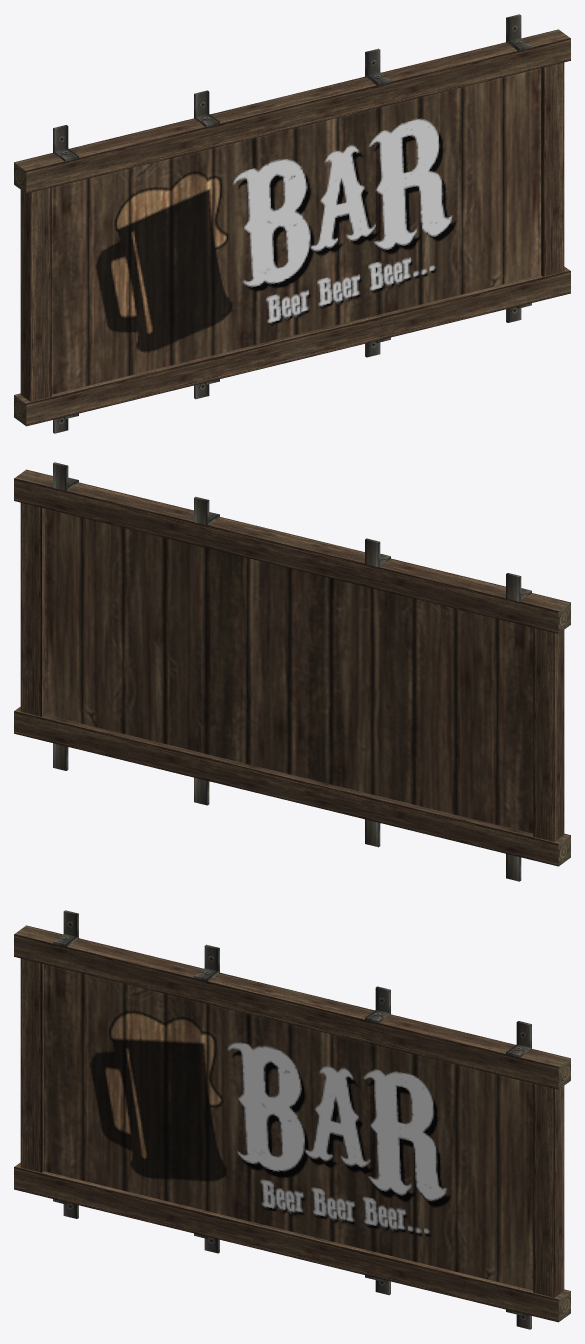
The model's file is signs-03.fbx.
3 views of the same model, one above another, from view 1: azimuth 30°, elevation 25°; view 2: azimuth 150°, elevation 25°; view 3: azimuth 330°, elevation 25° (orthographic).
Parts seen in each view (by area): view 1: Cube.142; view 2: Cube.142; view 3: Cube.142.
Part boxes in pixels (x1,y1,x2,y2): Cube.142: (14,14,570,433); Cube.142: (14,462,570,881); Cube.142: (14,910,570,1329).
Bounding box in the file's own units: 2.45 × 1.31 × 0.096.
